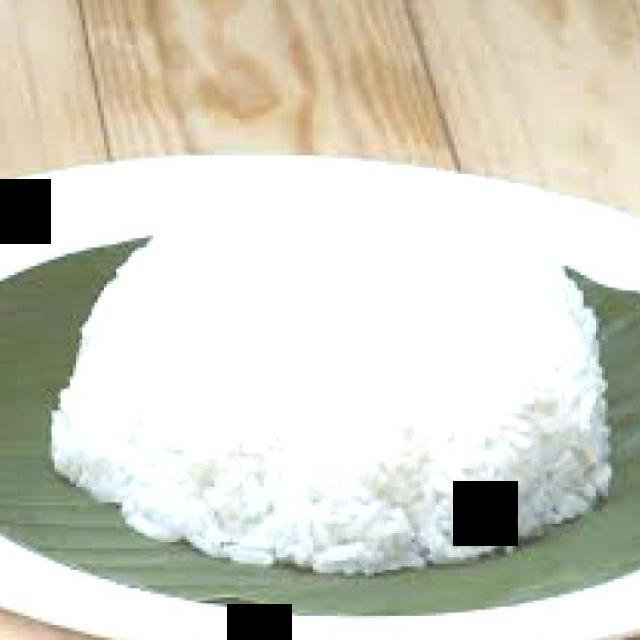rice: (50, 190, 615, 580)
